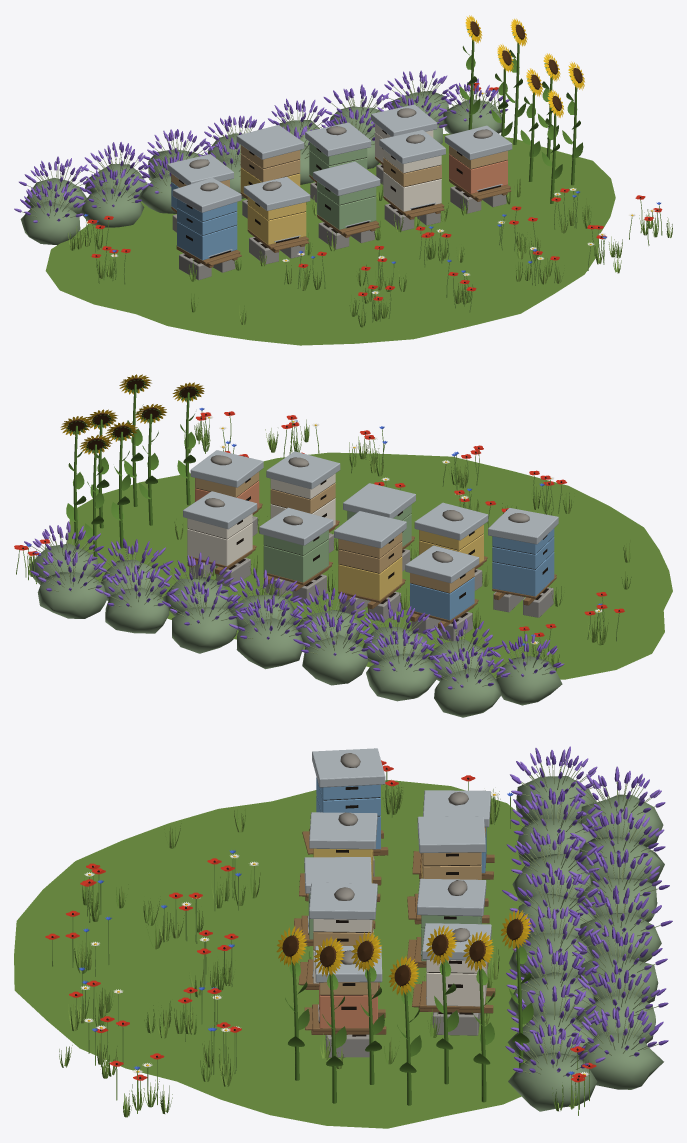
The model's file is rucher.glb.
3 renders of one model, top to bottom at view 1: azimuth 30°, elevation 25°; view 2: azimuth 150°, elevation 25°; view 3: azimuth 270°, elevation 25°, orthographic. The views are drawn at different scales.
Parts seen in each view (by area): view 1: sol-fauche, tole, lavande-feuillage, tournesol-vert, parpaing, lavande-a, lavande-b, herbe-a, herbe-b, peinture-7aa6c9, peinture-93b487, lavande-tige (+11 smaller); view 2: sol-fauche, lavande-feuillage, tole, lavande-b, lavande-a, tournesol-vert, peinture-7aa6c9, lavande-tige, parpaing, bois-clair, peinture-efe8d8, peinture-e6c56c (+10 smaller); view 3: sol-fauche, lavande-feuillage, tole, lavande-a, lavande-b, tournesol-vert, lavande-tige, herbe-a, herbe-b, bois-brut, tournesol-petale, fleur-tige (+11 smaller).
Boxes of the visible parts, x1,y1,x2,y2 form: sol-fauche: [45, 133, 615, 345]; tole: [167, 104, 512, 257]; lavande-feuillage: [20, 91, 501, 245]; tournesol-vert: [459, 25, 583, 203]; parpaing: [172, 164, 506, 280]; lavande-a: [19, 70, 509, 217]; lavande-b: [14, 70, 496, 223]; herbe-a: [70, 101, 672, 327]; herbe-b: [68, 101, 672, 327]; peinture-7aa6c9: [171, 182, 237, 260]; peinture-93b487: [309, 142, 376, 229]; lavande-tige: [22, 78, 499, 221]; sol-fauche: [67, 452, 672, 679]; lavande-feuillage: [30, 543, 562, 717]; tole: [183, 450, 558, 583]; lavande-b: [32, 521, 564, 687]; lavande-a: [24, 525, 560, 689]; tournesol-vert: [66, 379, 199, 557]; peinture-7aa6c9: [410, 528, 554, 620]; lavande-tige: [31, 532, 555, 688]; parpaing: [189, 516, 553, 641]; bois-clair: [195, 471, 474, 592]; peinture-efe8d8: [187, 473, 335, 565]; peinture-e6c56c: [338, 524, 483, 600]; sol-fauche: [14, 780, 526, 1128]; lavande-feuillage: [507, 776, 664, 1111]; tole: [304, 748, 491, 1021]; lavande-a: [502, 748, 672, 1076]; lavande-b: [506, 746, 664, 1072]; tournesol-vert: [285, 918, 533, 1105]; lavande-tige: [514, 759, 660, 1076]; herbe-a: [59, 785, 588, 1117]; herbe-b: [60, 779, 584, 1117]; bois-brut: [294, 828, 495, 1034]; tournesol-petale: [276, 909, 531, 995]; fleur-tige: [52, 771, 589, 1115].
Size of the model in its own units: 5.3 by 1.31 by 4.23.
